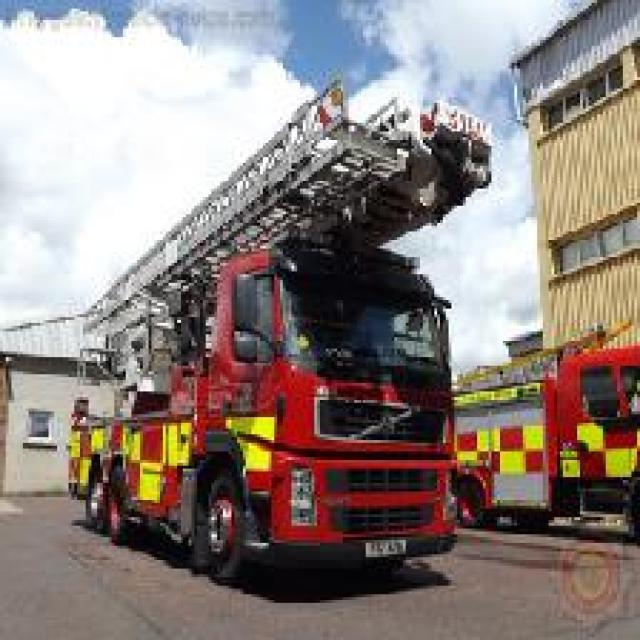Fire-truck: (63, 74, 491, 583), (449, 317, 637, 543)
